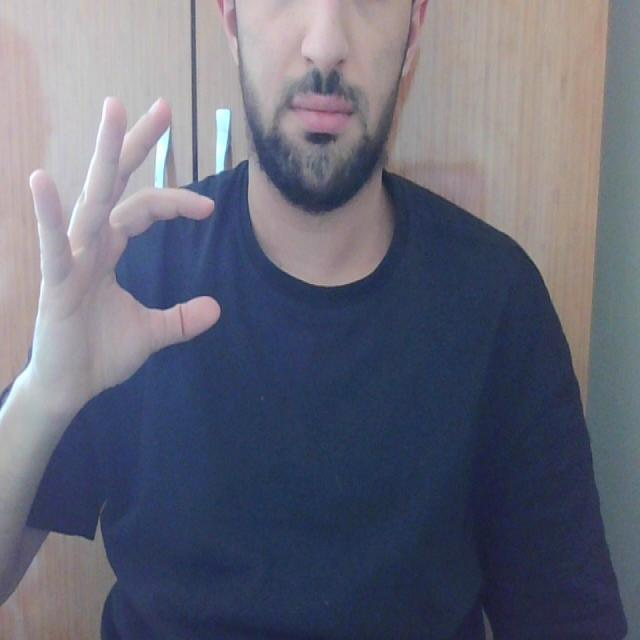Tuvalet: (12, 65, 254, 402)
